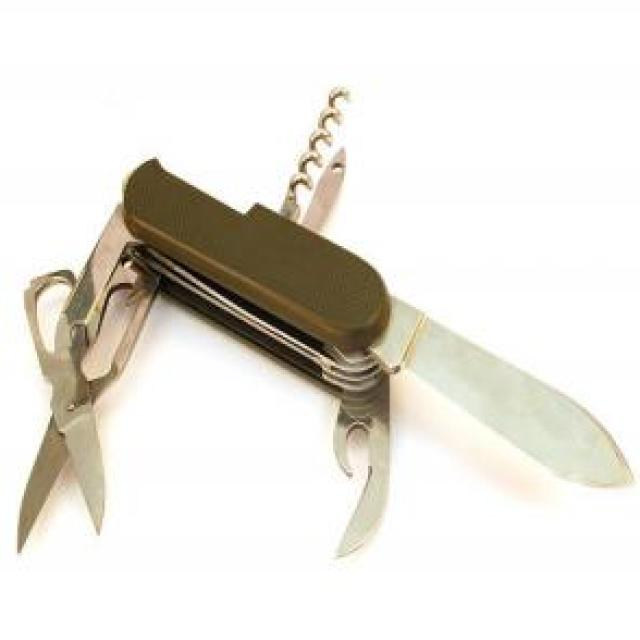knife: (122, 152, 634, 493)
